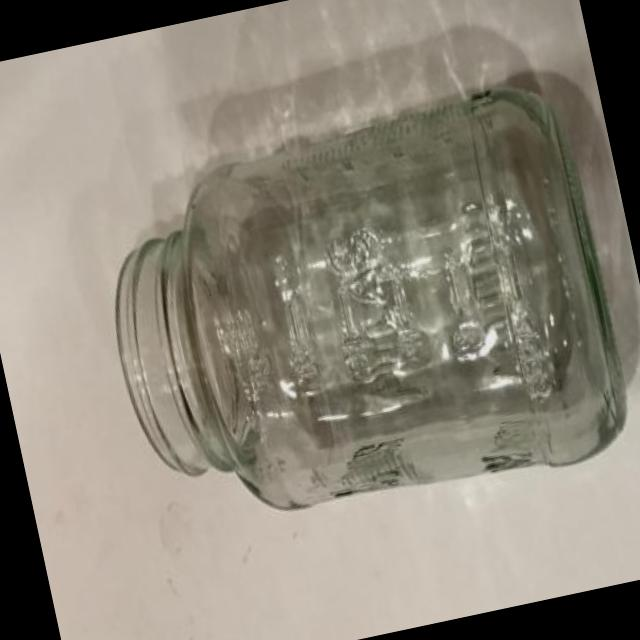chai_thuy_tinh: (117, 88, 633, 510)
